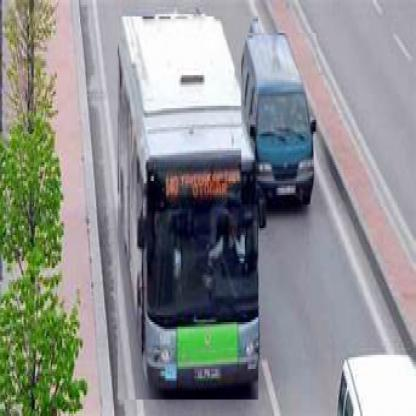bus: (119, 17, 261, 403)
car: (242, 34, 319, 208)
